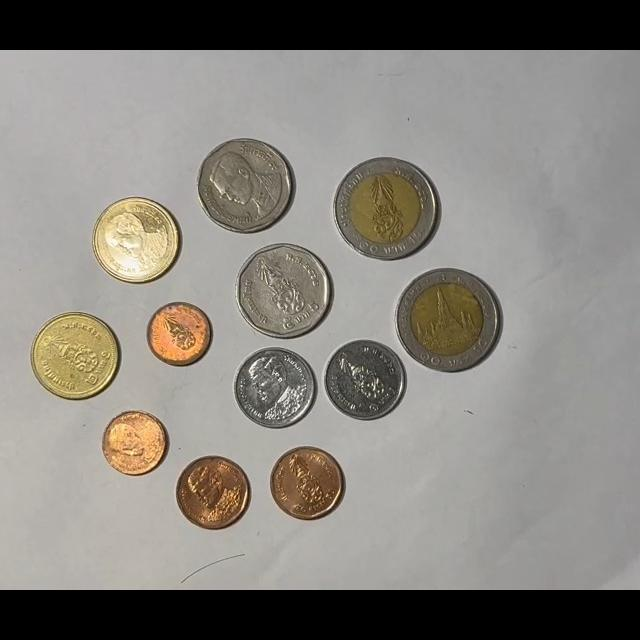1-baht: (233, 347, 317, 429), (323, 339, 406, 421)
10-baht: (395, 267, 501, 372), (333, 157, 439, 261)
2-baht: (31, 311, 121, 401), (91, 197, 180, 286)
25-satang: (101, 409, 169, 477), (147, 301, 213, 366)
5-baht: (197, 137, 295, 234), (236, 243, 332, 339)
50-satang: (175, 455, 250, 531), (270, 446, 344, 520)
